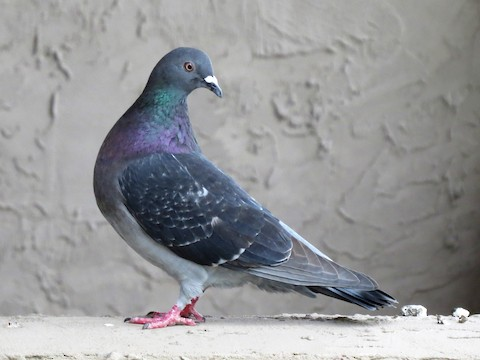pigeon: (91, 45, 401, 334)
